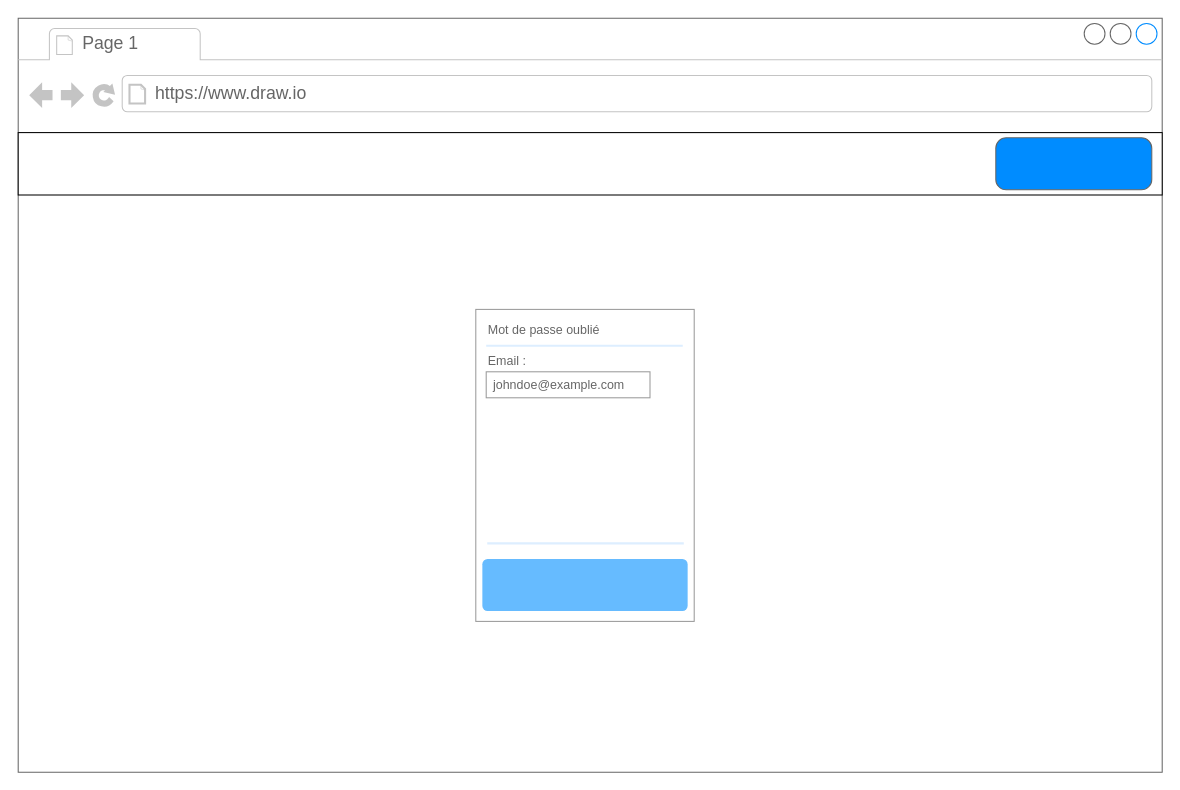
Image size: 1180x790. Some labels were removed from this diagram. The centre of each missing label's shape, as x and y in pixels:
Envoyer mon nouveau mot de passe: the point at 584,584
Se connecter: the point at 1073,163
